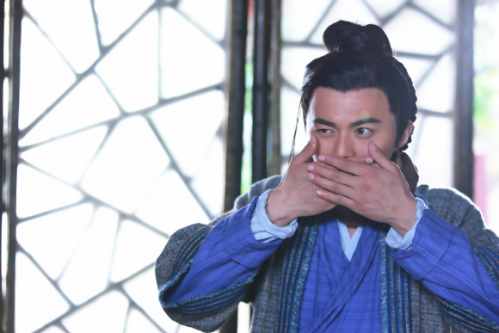face: (310, 88, 392, 191)
